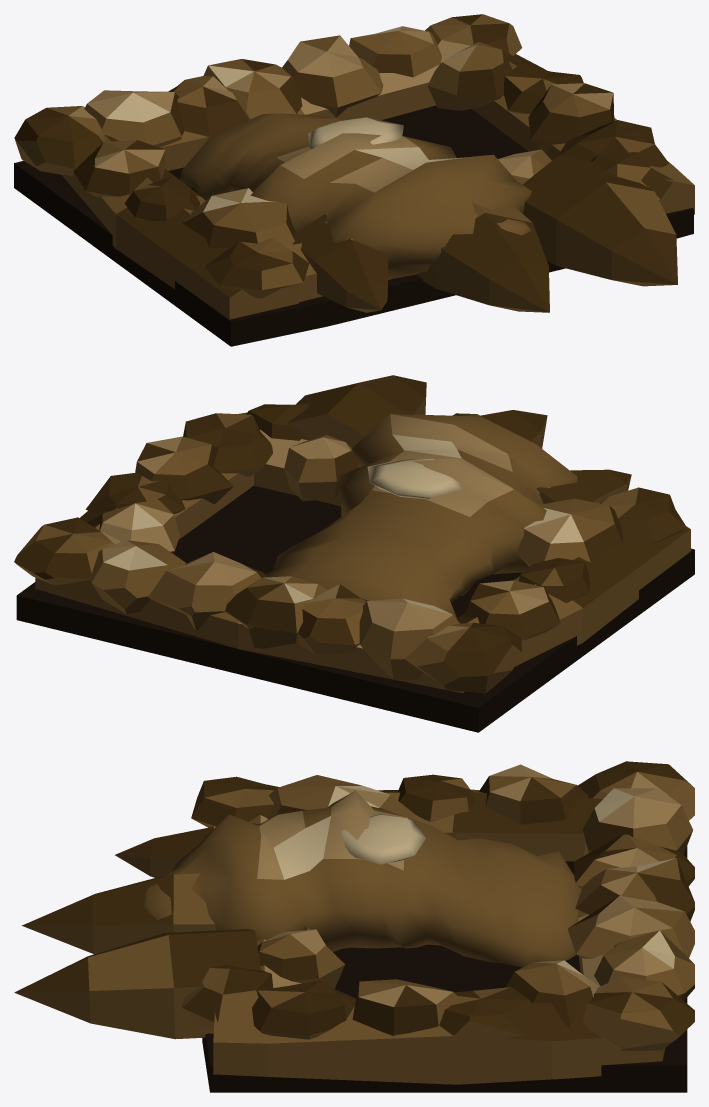
The model's file is newsh8-9-f3.glb.
3 renders of one model, top to bottom at view 1: azimuth 30°, elevation 25°; view 2: azimuth 150°, elevation 25°; view 3: azimuth 270°, elevation 25°, orthographic. The views are drawn at different scales.
Visible parts, largest first — view 1: newsh8-9-f3; view 2: newsh8-9-f3; view 3: newsh8-9-f3.
Boxes of the visible parts, bbox=[...] form: newsh8-9-f3: bbox=[14, 14, 694, 346]; newsh8-9-f3: bbox=[14, 375, 694, 732]; newsh8-9-f3: bbox=[14, 761, 694, 1092].
Bounding box in the file's own units: 2 × 0.5814 × 2.26.
